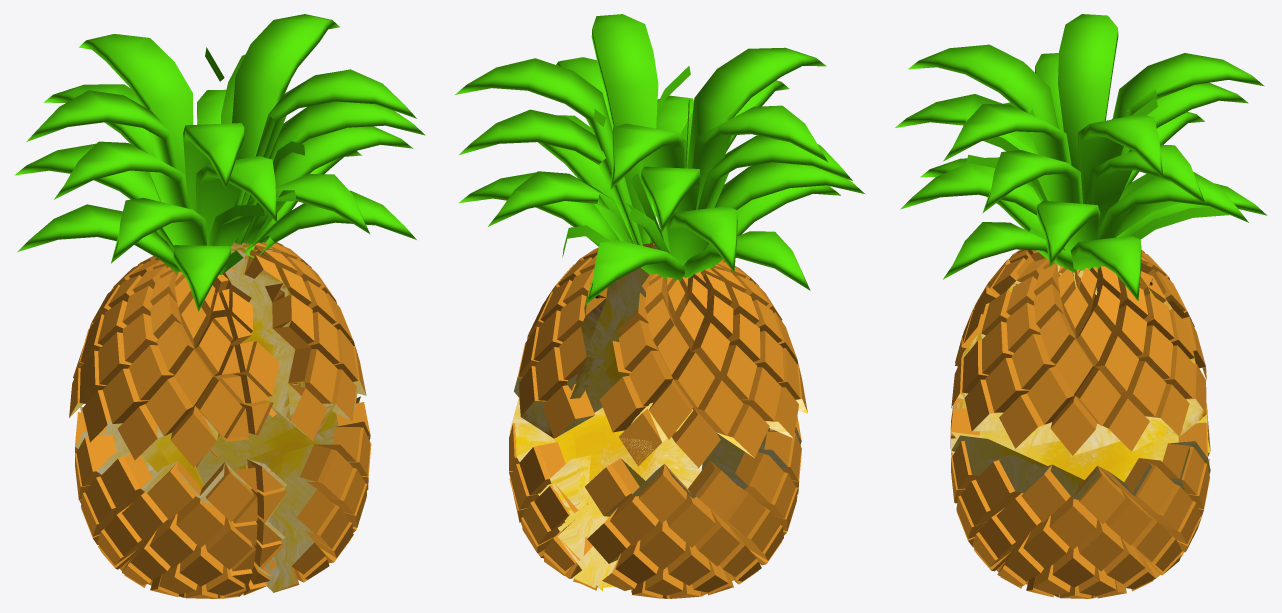
Rendered from PineappleSlicedFinalblend.fbx.
3 renders of one model, left to right at view 1: azimuth 30°, elevation 25°; view 2: azimuth 150°, elevation 25°; view 3: azimuth 270°, elevation 25°, orthographic. The views are drawn at different scales.
Visible parts, largest first — view 1: Плоскость.001, Плоскость.002, Плоскость.003, Плоскость; view 2: Плоскость.001, Плоскость.002, Плоскость.003, Плоскость; view 3: Плоскость.002, Плоскость, Плоскость.001, Плоскость.003.
Boxes of the visible parts, x1=… form: Плоскость.001: x1=14, y1=34, x2=279, y2=467; Плоскость.002: x1=197, y1=14, x2=425, y2=440; Плоскость.003: x1=75, y1=406, x2=287, y2=598; Плоскость: x1=196, y1=396, x2=371, y2=592; Плоскость.001: x1=585, y1=47, x2=864, y2=467; Плоскость.002: x1=455, y1=14, x2=693, y2=438; Плоскость.003: x1=585, y1=416, x2=801, y2=598; Плоскость: x1=509, y1=398, x2=701, y2=591; Плоскость.002: x1=900, y1=97, x2=1248, y2=455; Плоскость: x1=951, y1=422, x2=1210, y2=598; Плоскость.001: x1=895, y1=14, x2=1266, y2=379; Плоскость.003: x1=950, y1=393, x2=1210, y2=481.
Size of the model in its own units: 400 by 535 by 366.
